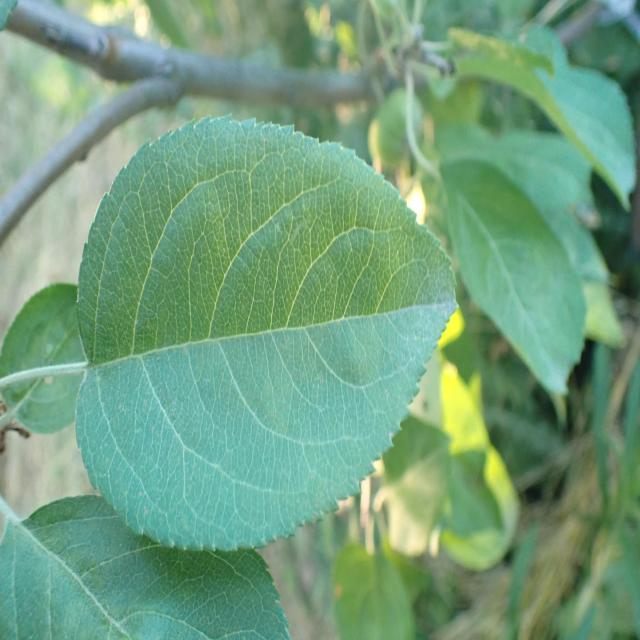healthy: (75, 113, 460, 553), (432, 123, 588, 396), (0, 494, 291, 640), (0, 282, 87, 436)
